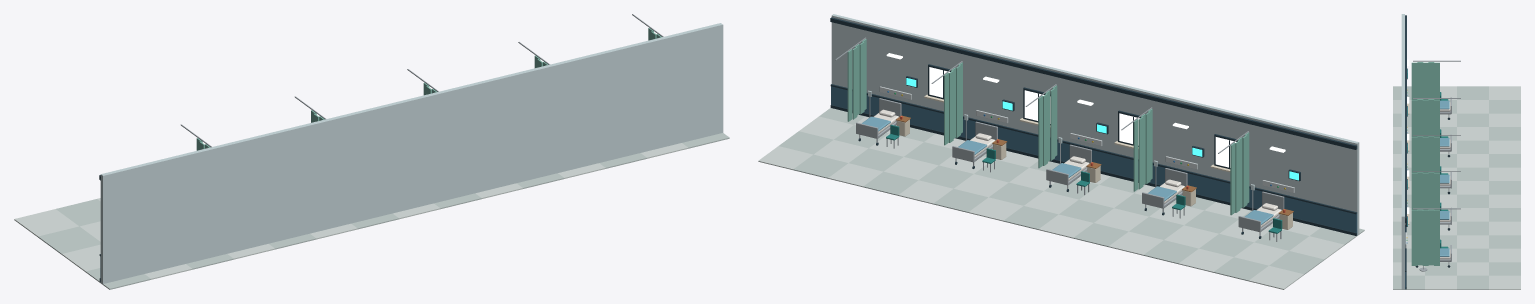
Rendered from ward-bay.glb.
3 renders of one model, left to right at view 1: azimuth 30°, elevation 25°; view 2: azimuth 150°, elevation 25°; view 3: azimuth 270°, elevation 25°, orthographic. The views are drawn at different scales.
Parts seen in each view (by area): view 1: ward-bay; view 2: ward-bay; view 3: ward-bay.
Boxes of the visible parts, left/top/right/bottom form: ward-bay: left=14, top=14, right=729, bottom=289; ward-bay: left=758, top=14, right=1364, bottom=289; ward-bay: left=1393, top=14, right=1520, bottom=289.
Bounding box in the file's own units: 60 × 10.1 × 16.
